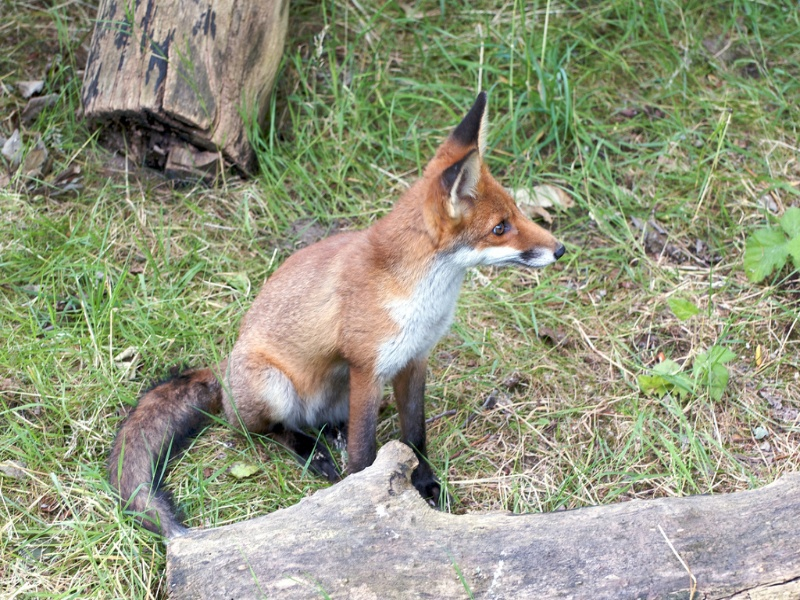fox: (112, 87, 571, 553)
